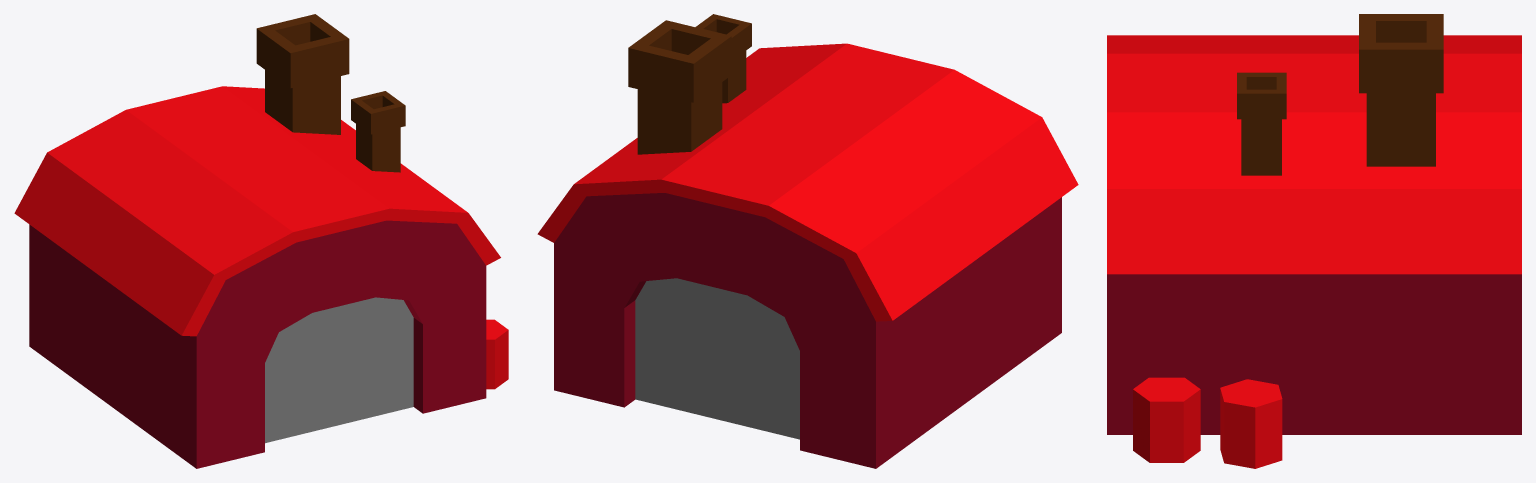
File: garage.glb
The picture shows the model from 3 angles, left to right: view 1: azimuth 30°, elevation 25°; view 2: azimuth 150°, elevation 25°; view 3: azimuth 270°, elevation 25°; orthographic projection. The views are drawn at different scales.
Visible parts, largest first — view 1: Cube.050; view 2: Cube.050; view 3: Cube.050.
Part boxes in pixels (<box>): Cube.050: <box>14,14,508,468</box>; Cube.050: <box>537,14,1078,468</box>; Cube.050: <box>1107,14,1521,468</box>.
Size of the model in its own units: 367 by 294 by 300.
